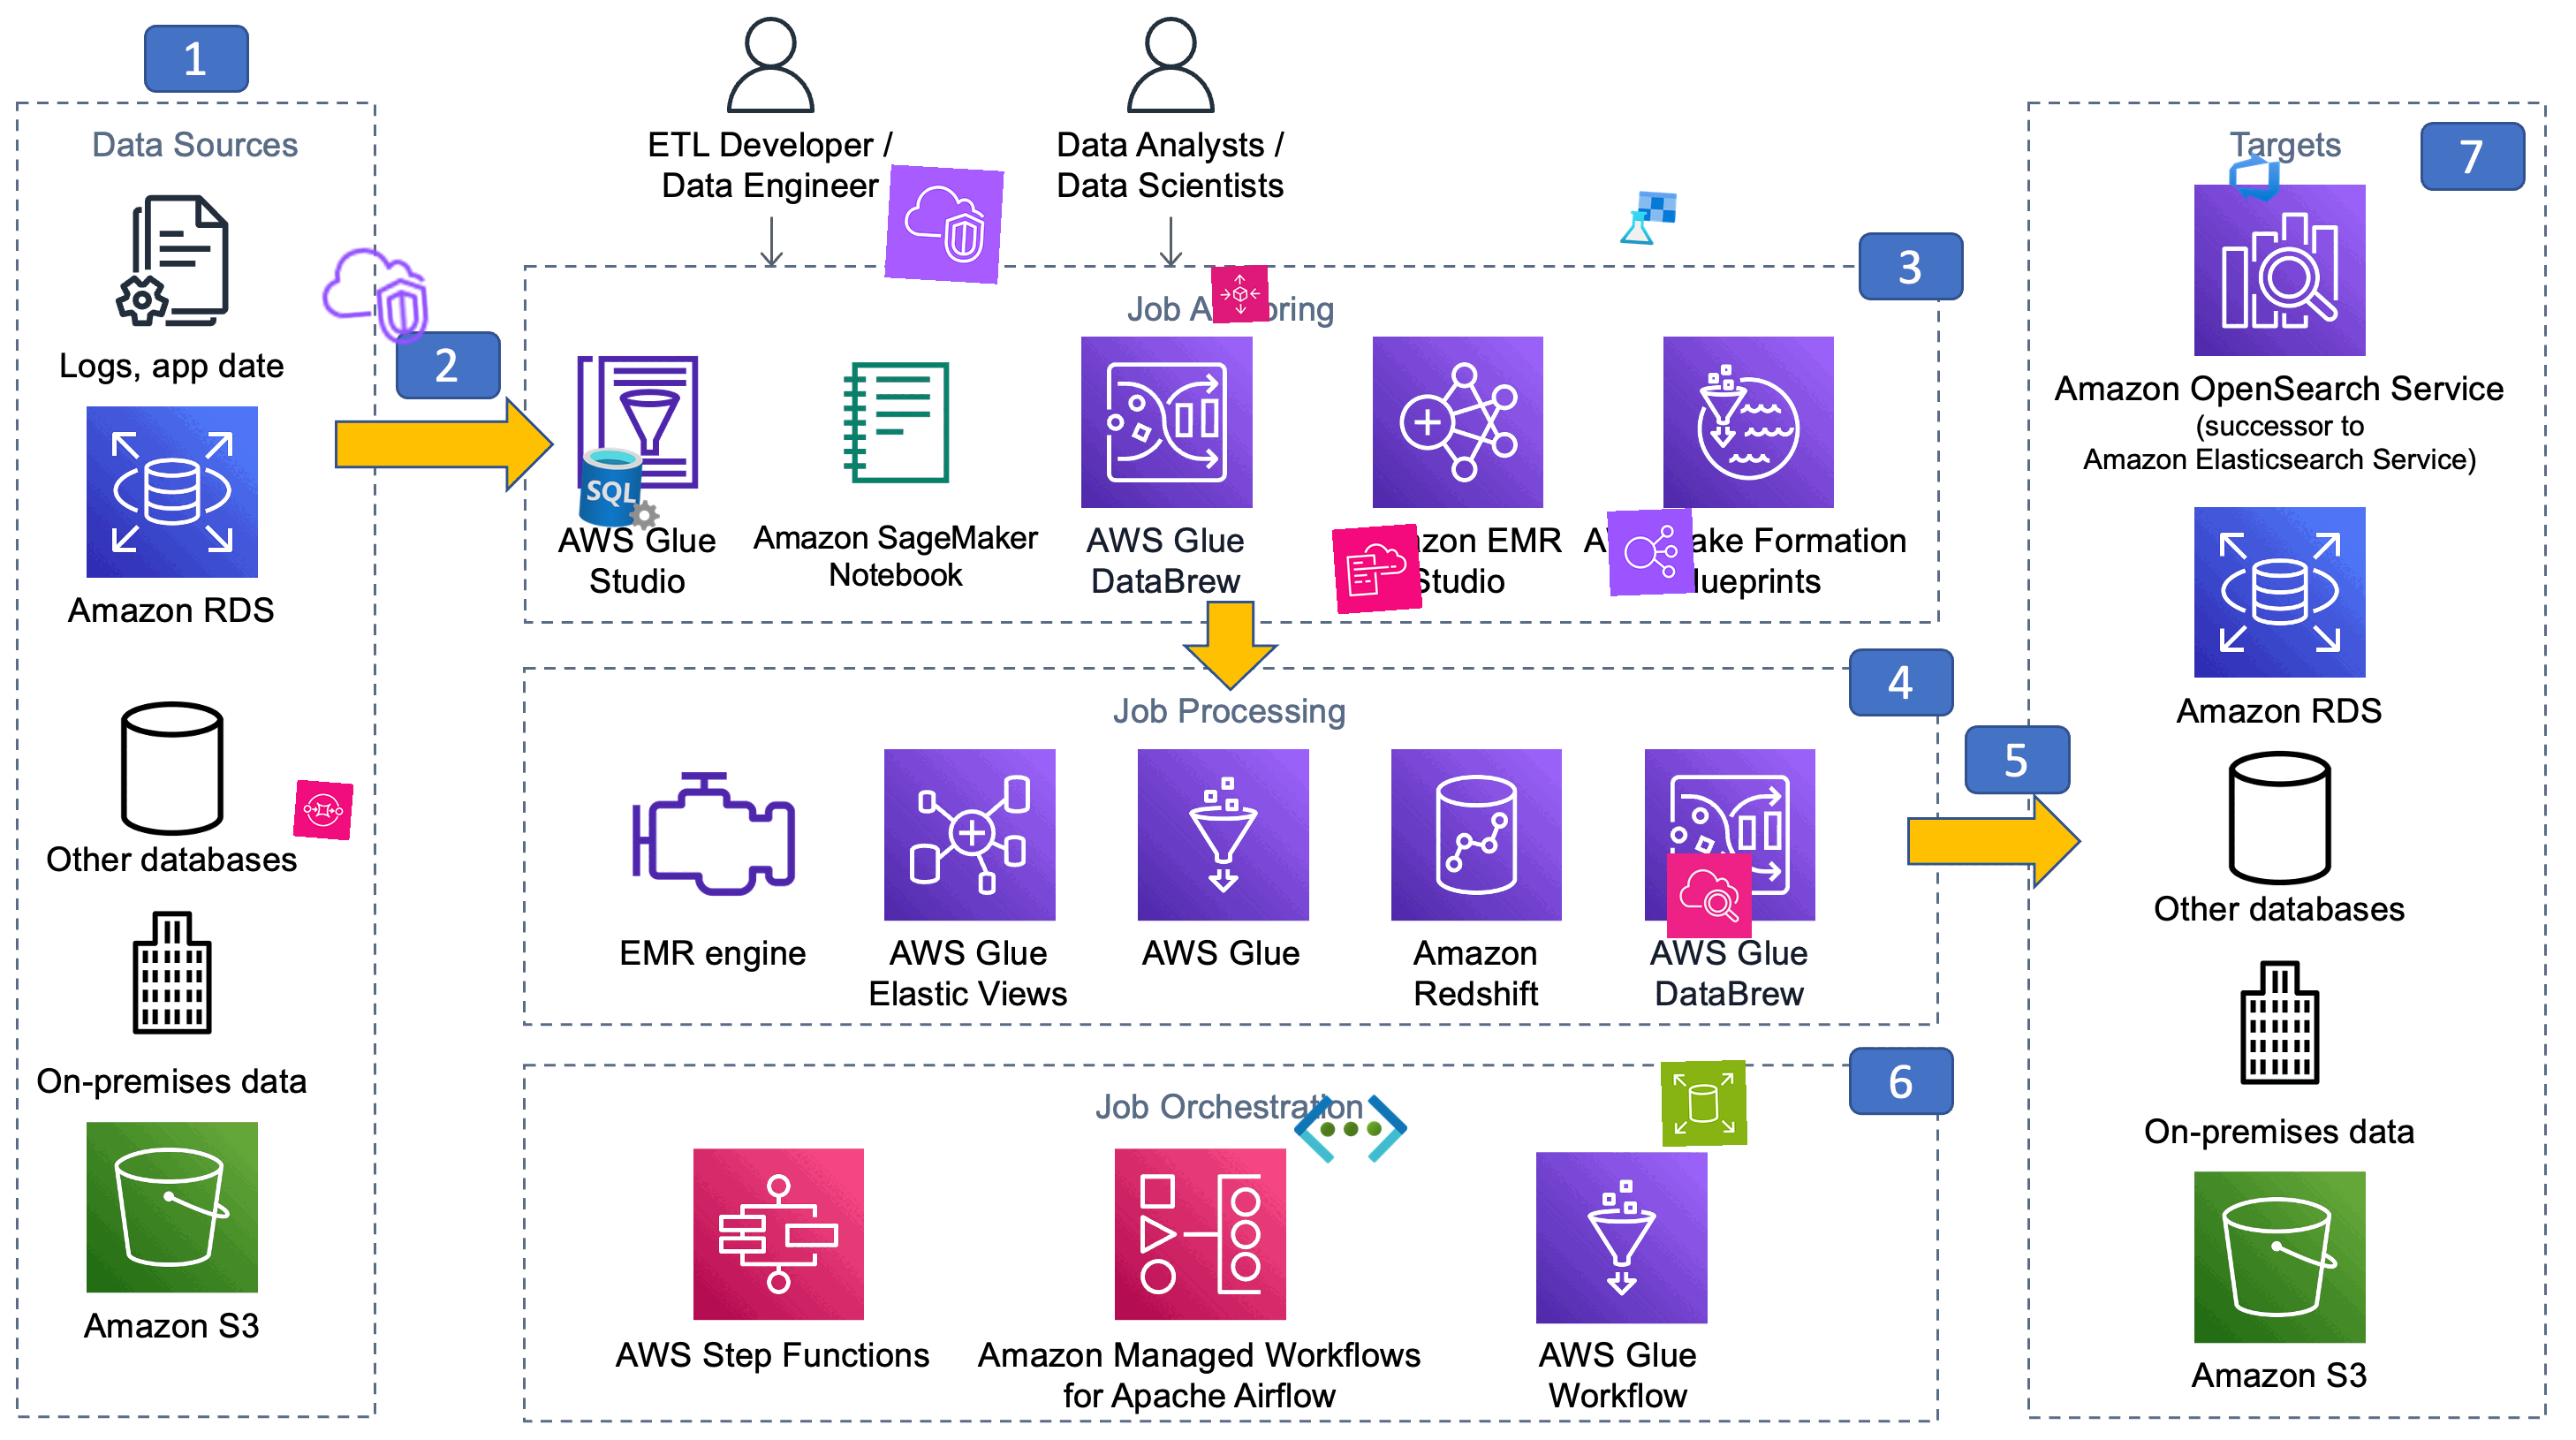aws_amazon_cloudwatch: (1667, 853, 1753, 939)
aws_amazon_elastic_block_store: (1660, 1060, 1748, 1148)
aws_amazon_simple_queue_service: (292, 778, 354, 840)
aws_amazon_virtual_private_cloud: (885, 165, 1005, 285)
aws_auto_scaling: (1210, 264, 1270, 324)
aws_cloudformation: (1330, 524, 1422, 616)
aws_elastic_load_balancing: (1606, 508, 1695, 596)
aws_vpc_virtual_private_cloud_vpc: (313, 235, 435, 357)
azure_devops: (2226, 147, 2284, 205)
azure_machine_learning_studio_workspaces: (1617, 188, 1679, 249)
azure_sql_server: (575, 442, 667, 534)
azure_virtual_networks: (1293, 1072, 1408, 1187)
